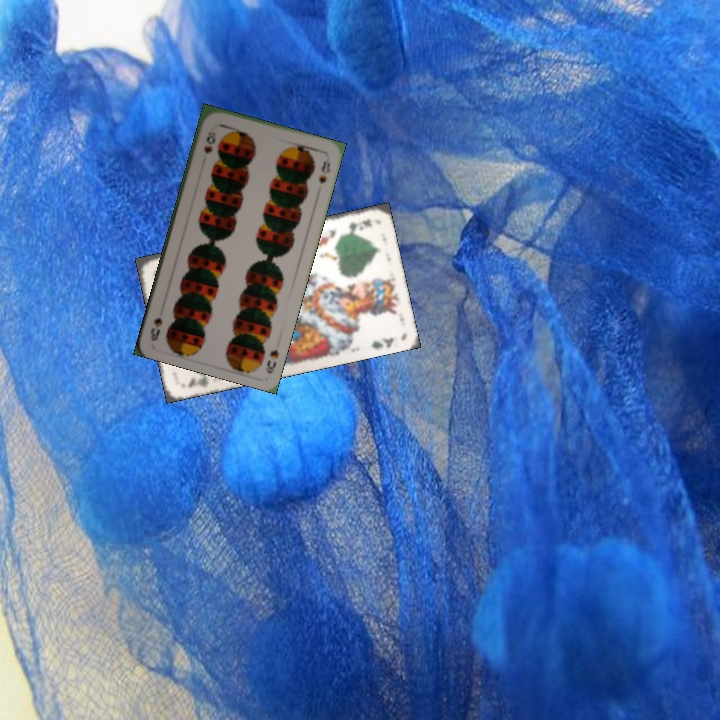GK: (344, 214, 375, 234), (183, 373, 210, 391)
S8: (262, 345, 281, 376), (200, 127, 219, 156)
